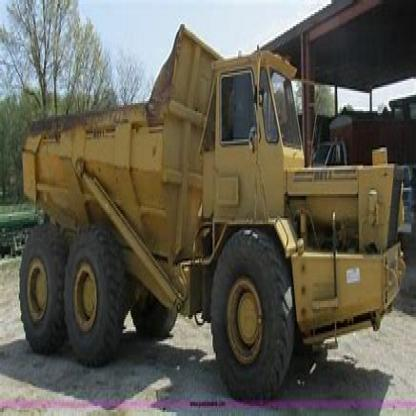excavator: (41, 0, 402, 396)
